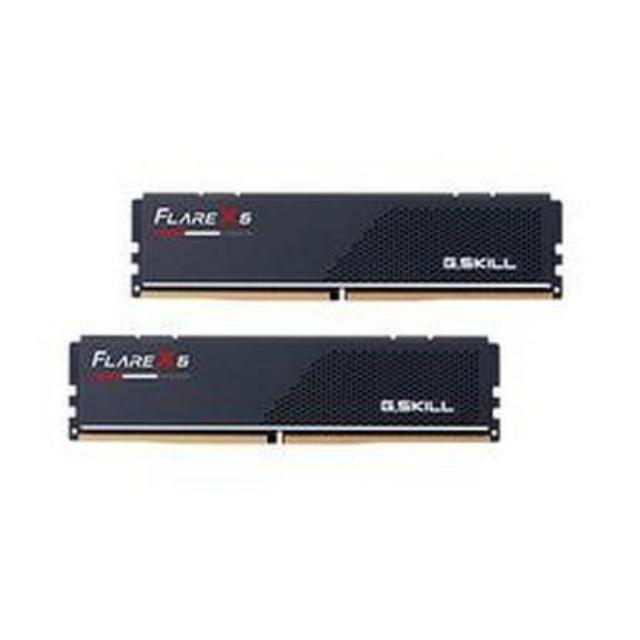RAM: (123, 184, 580, 313), (61, 329, 504, 454)
